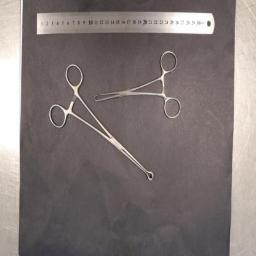Allis Tissue Forceps: (94, 51, 182, 121)
